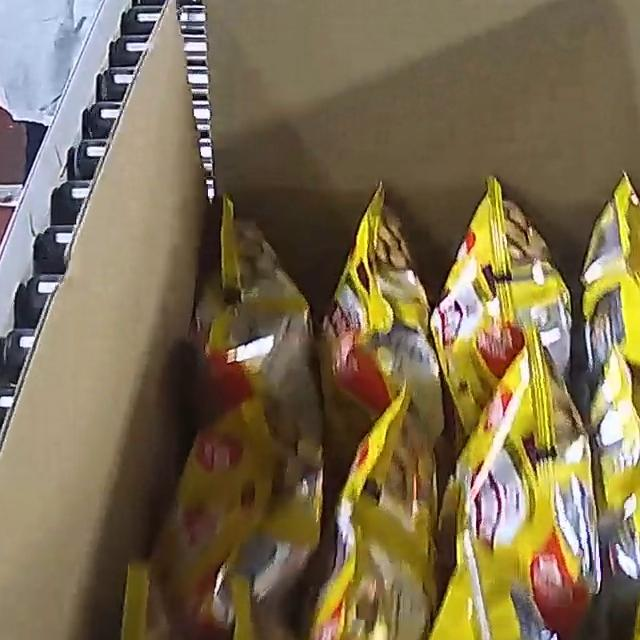salted: (113, 169, 640, 640)
